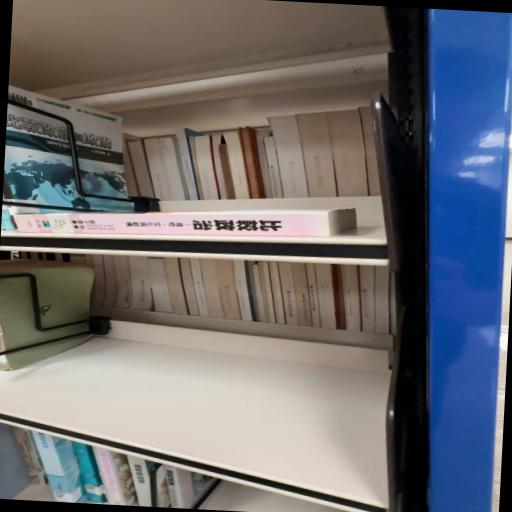flat: (14, 208, 356, 237)
